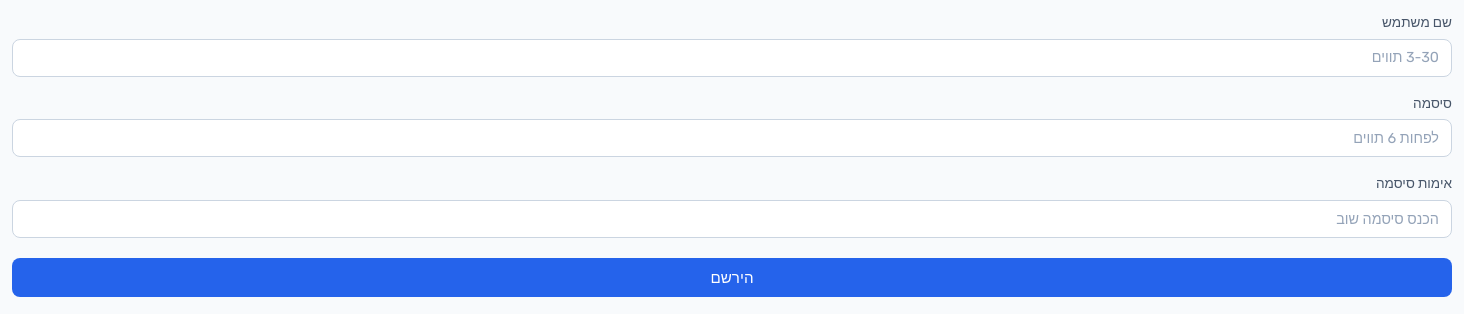
Test case: RegisterForm › shows loading state during submission
Type "newuser" into the field labelled "שם משתמש".
click(732, 58); type("newuser")  # box [12,38,1452,77]
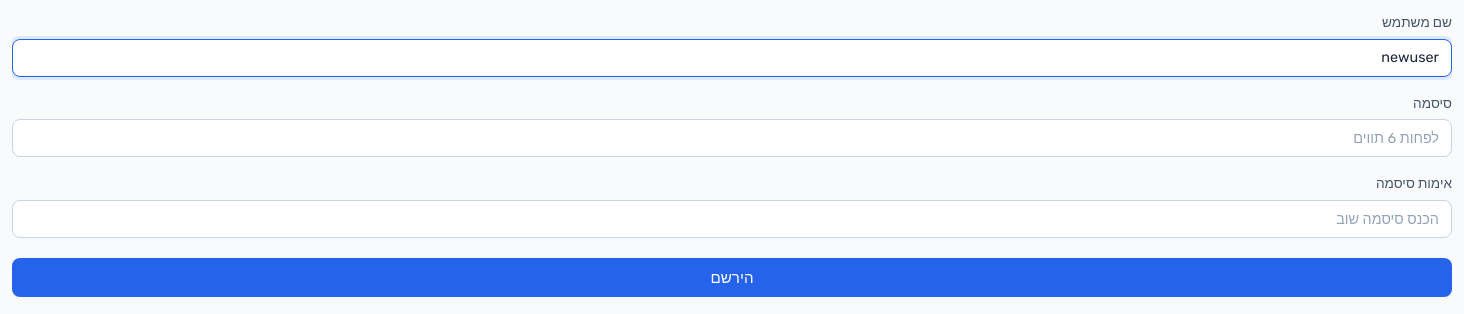
Type "password123" into the password field labelled "סיסמה".
click(732, 138); type("password123")  # box [12,119,1452,158]
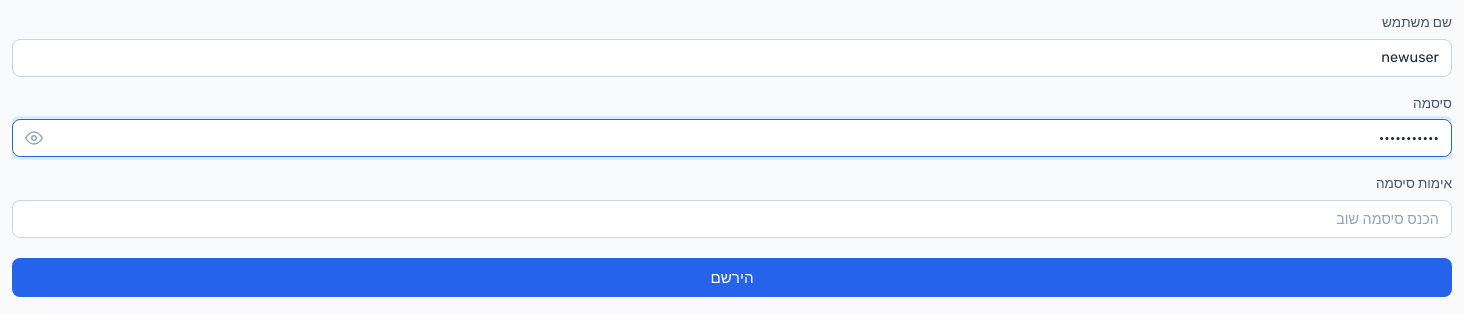
Type "password123" into the password field labelled "אימות סיסמה".
click(732, 219); type("password123")  # box [12,200,1452,238]
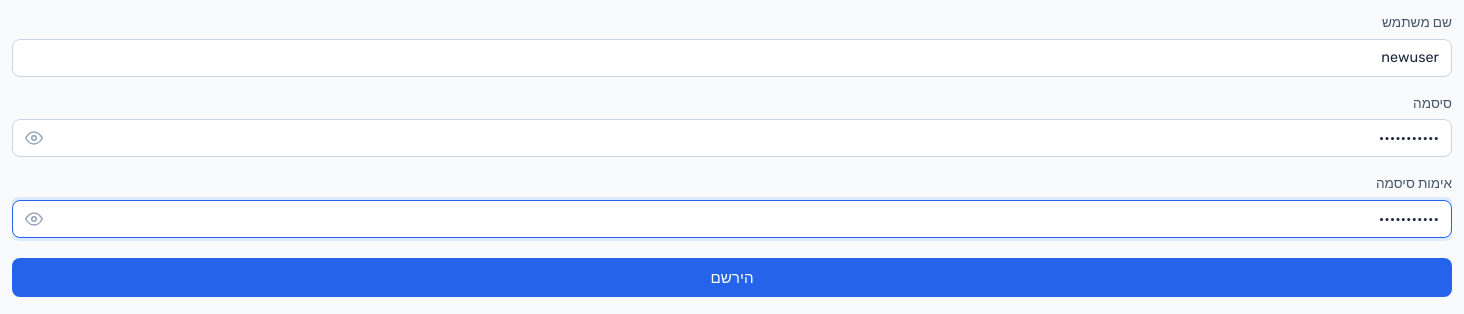
Click the button "הירשם".
click(732, 278)  # box [12,258,1452,297]
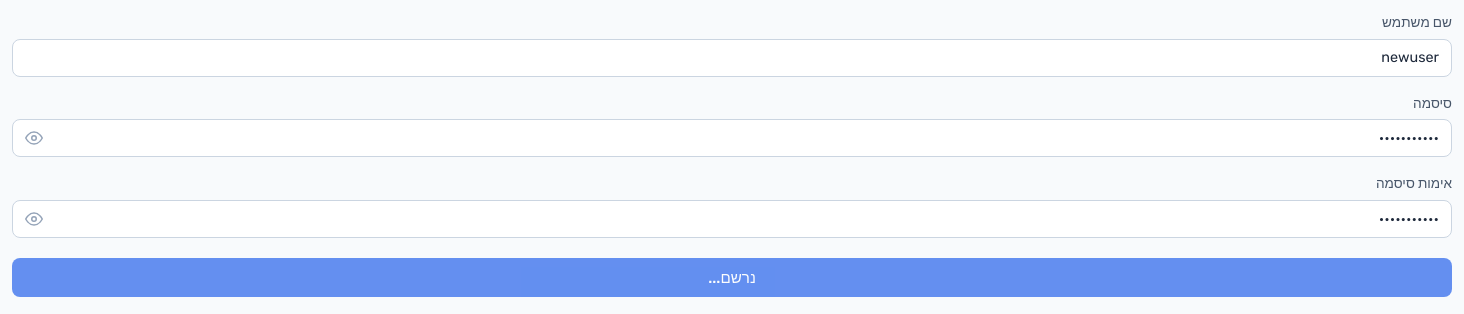
Expected: the button "נרשם..." is shown, [12,258,1452,297]
